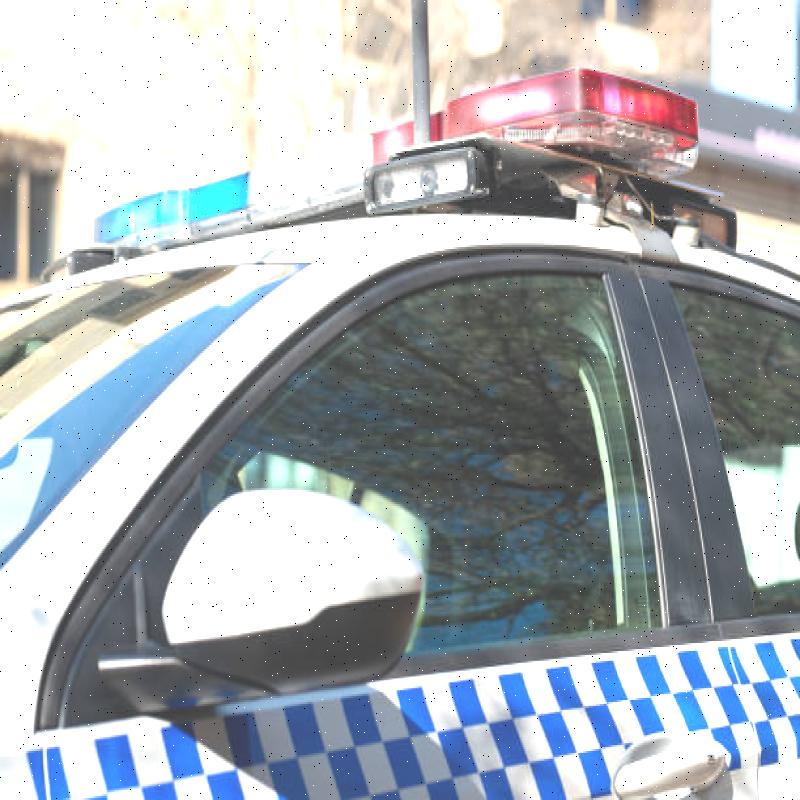AmbulanceSiren: (89, 60, 734, 274)
